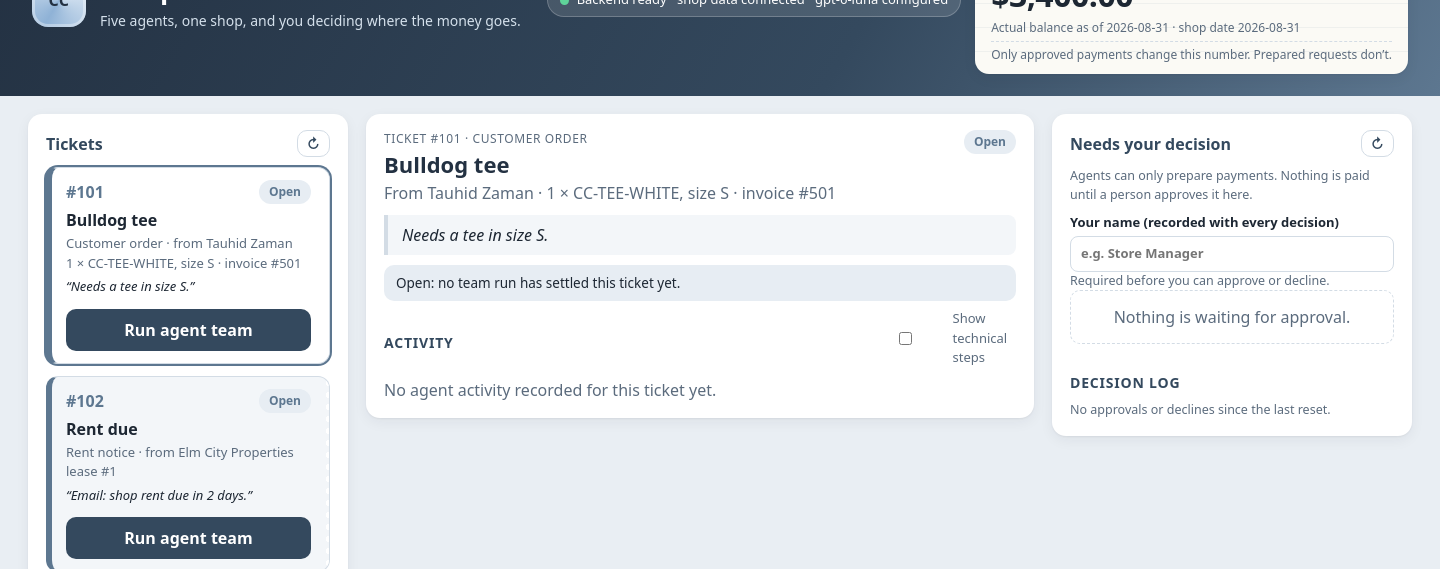
Test case: running the team › reports a limit-reached run honestly and a failed run as an error
This screenshot has width=1440, height=569.
Click the 1st button "Run agent team" at (188, 330), box 66,308 -> 311,350
(page scrolled)
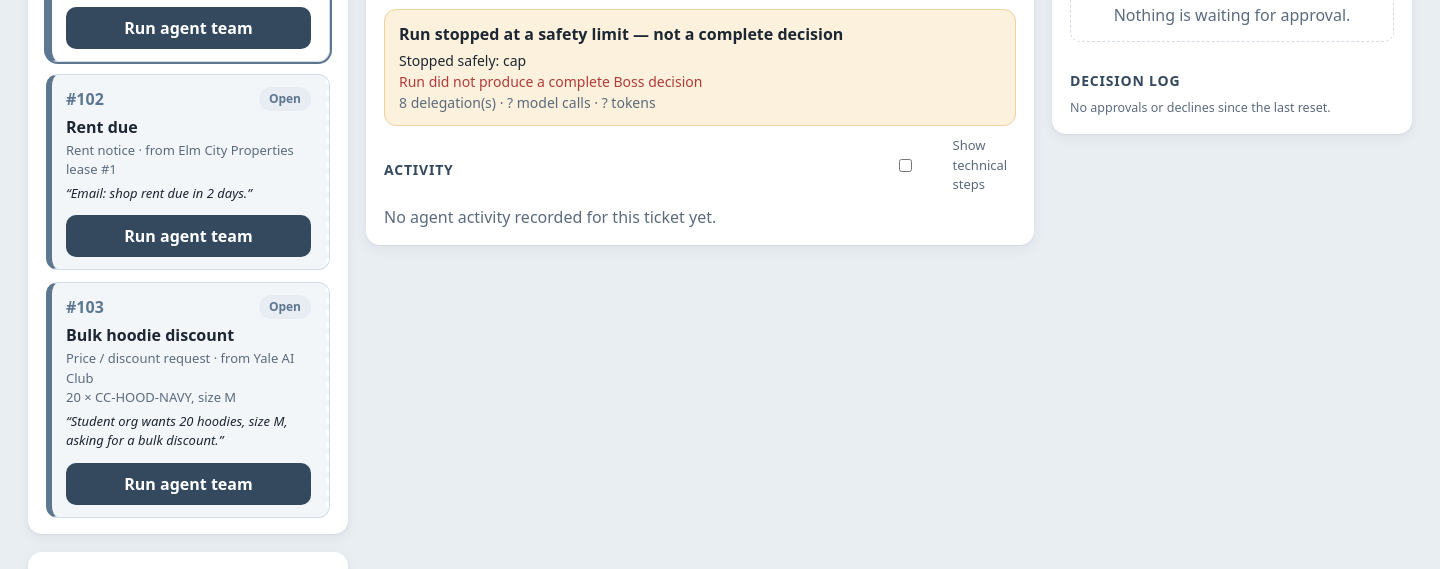
Now the text "Run stopped at a safety limit — not a complete decision" is shown, box 399,23 -> 843,45
Now the text "Run did not produce a complete Boss decision" is shown, box 399,72 -> 702,91
Click the 3rd button "Run agent team" at (188, 484), box 66,462 -> 311,504
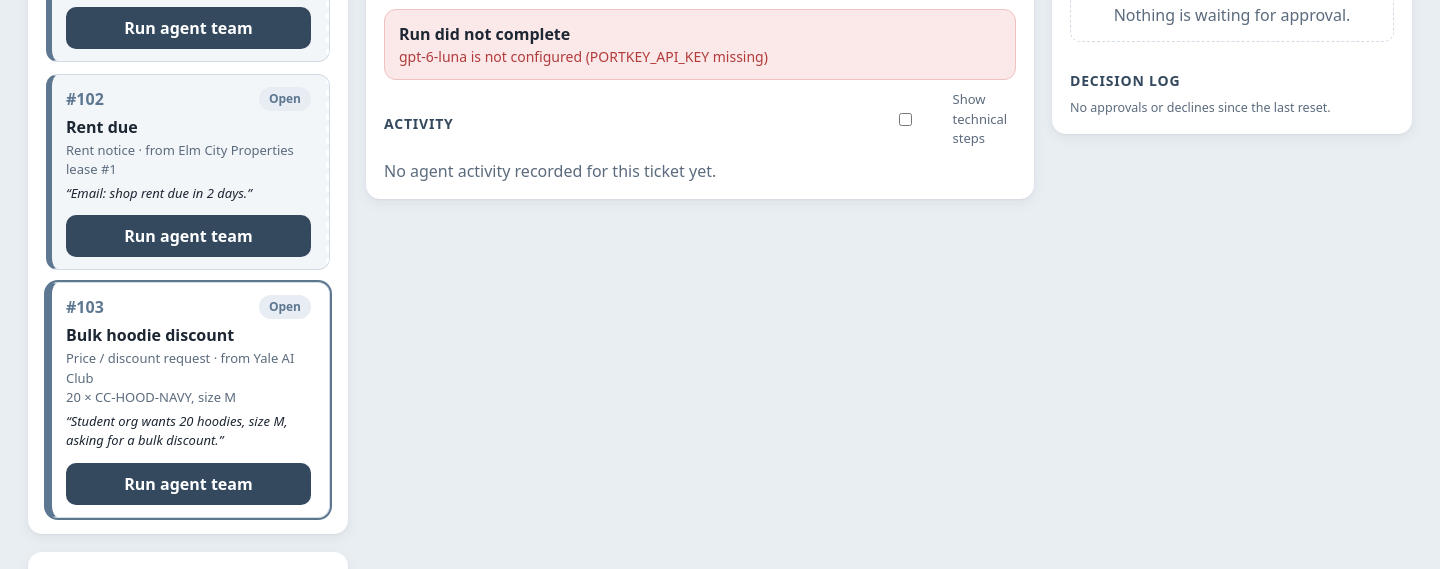
Now the text "Run did not complete" is shown, box 399,23 -> 570,45
Now the text "gpt-6-luna is not configured (PORTKEY_API_KEY missing)" is shown, box 399,46 -> 768,67
